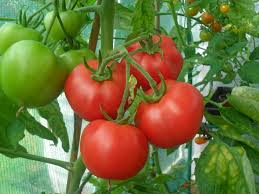stems: (128, 58, 158, 95), (114, 63, 130, 123), (26, 1, 52, 27), (57, 13, 75, 48), (98, 52, 123, 73), (123, 35, 155, 50), (42, 15, 55, 46)
tomato: (134, 79, 206, 150), (1, 40, 66, 108), (64, 59, 136, 120), (80, 119, 150, 181), (120, 35, 185, 87), (1, 22, 43, 56), (43, 9, 84, 39), (55, 48, 98, 71)
